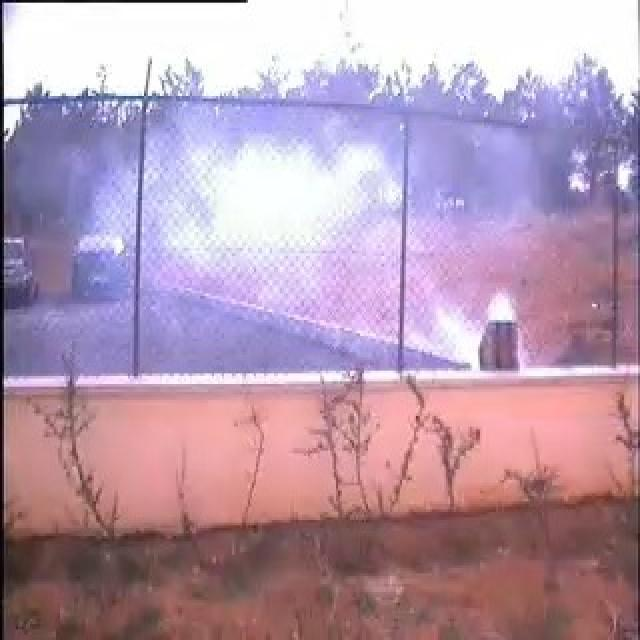Smoke: (78, 120, 522, 379)
